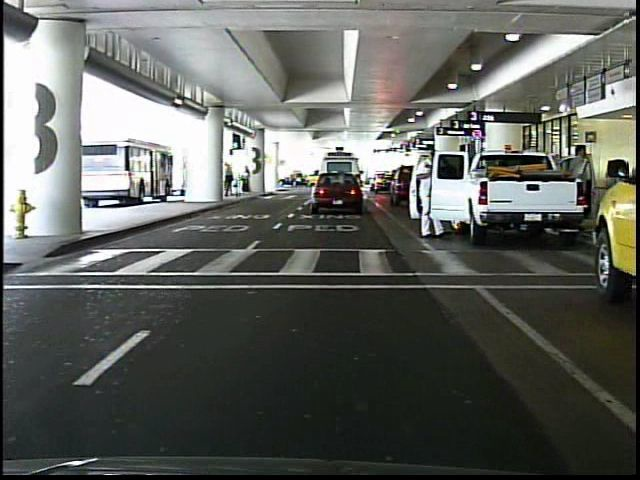person: (413, 143, 449, 242), (562, 140, 597, 223), (223, 160, 236, 198), (240, 164, 255, 195)
